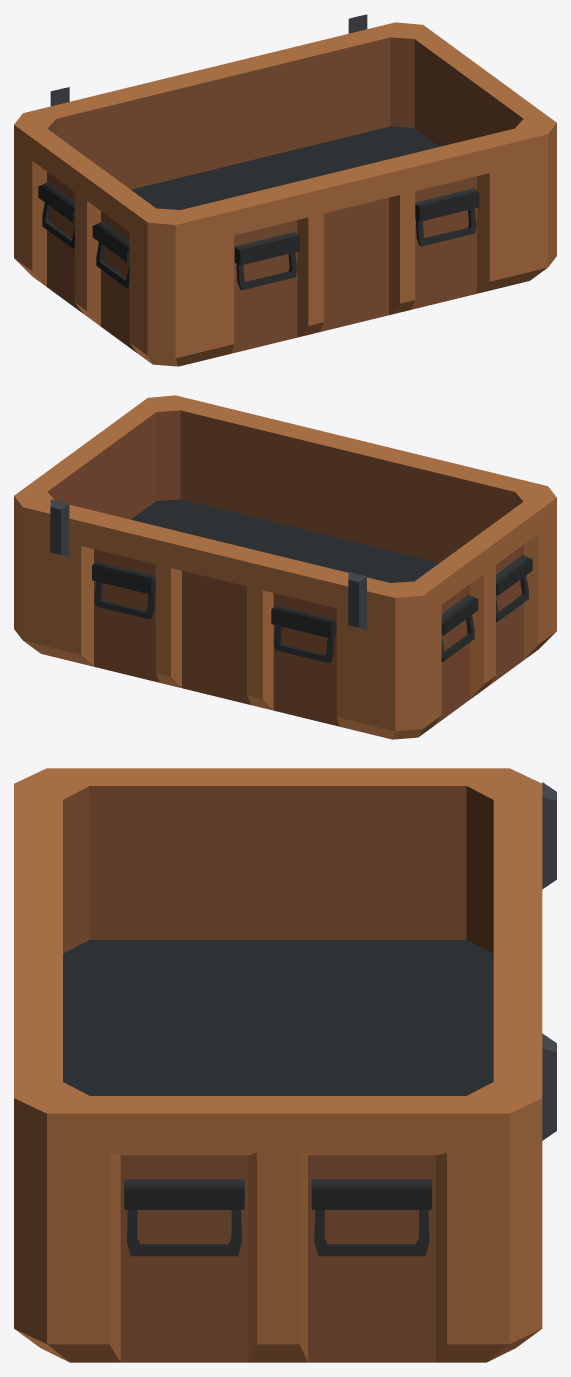
File: SM_Prop_Crate_Plastic_02.glb
The picture shows the model from 3 angles, top to bottom: view 1: azimuth 30°, elevation 25°; view 2: azimuth 150°, elevation 25°; view 3: azimuth 270°, elevation 25°; orthographic projection. The views are drawn at different scales.
Parts seen in each view (by area): view 1: SM_Prop_Crate_Plastic_02; view 2: SM_Prop_Crate_Plastic_02; view 3: SM_Prop_Crate_Plastic_02.
Part boxes in pixels (x1,y1,x2,y2): SM_Prop_Crate_Plastic_02: (14,14,556,366); SM_Prop_Crate_Plastic_02: (14,395,556,739); SM_Prop_Crate_Plastic_02: (14,768,556,1362).
Bounding box in the file's own units: 1.2 × 0.4615 × 0.798.
Materials: 1 (1 with a texture image).
